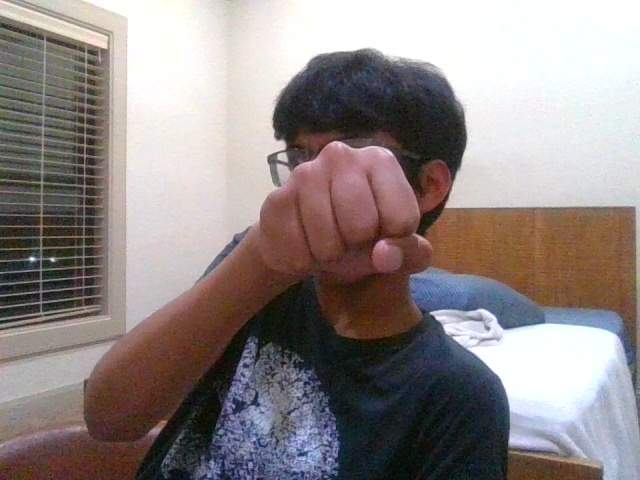yes: (259, 141, 435, 277)
